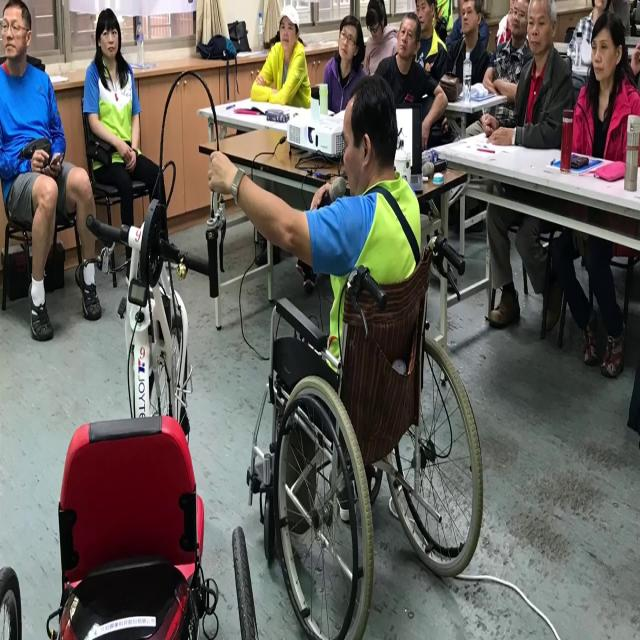wheelchairs: (245, 196, 492, 640)
